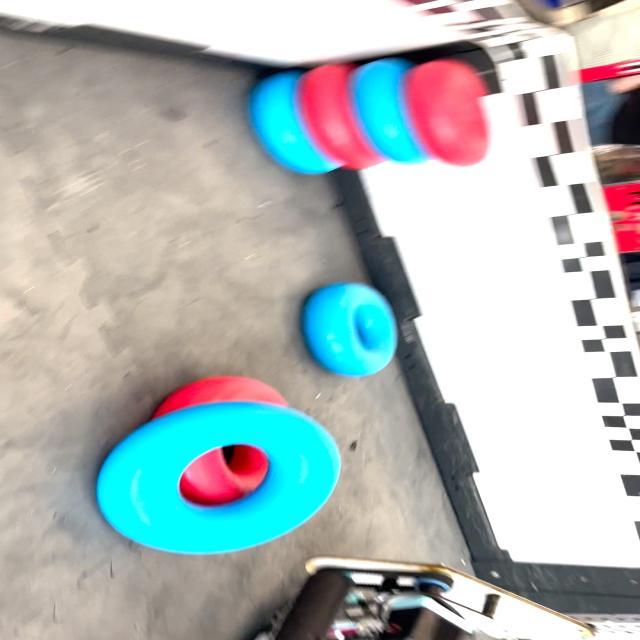Blue-Ring: (98, 402, 340, 554), (249, 70, 340, 174), (302, 282, 396, 378), (351, 58, 429, 164)
Red-Ring: (298, 64, 384, 170), (404, 59, 489, 166)
